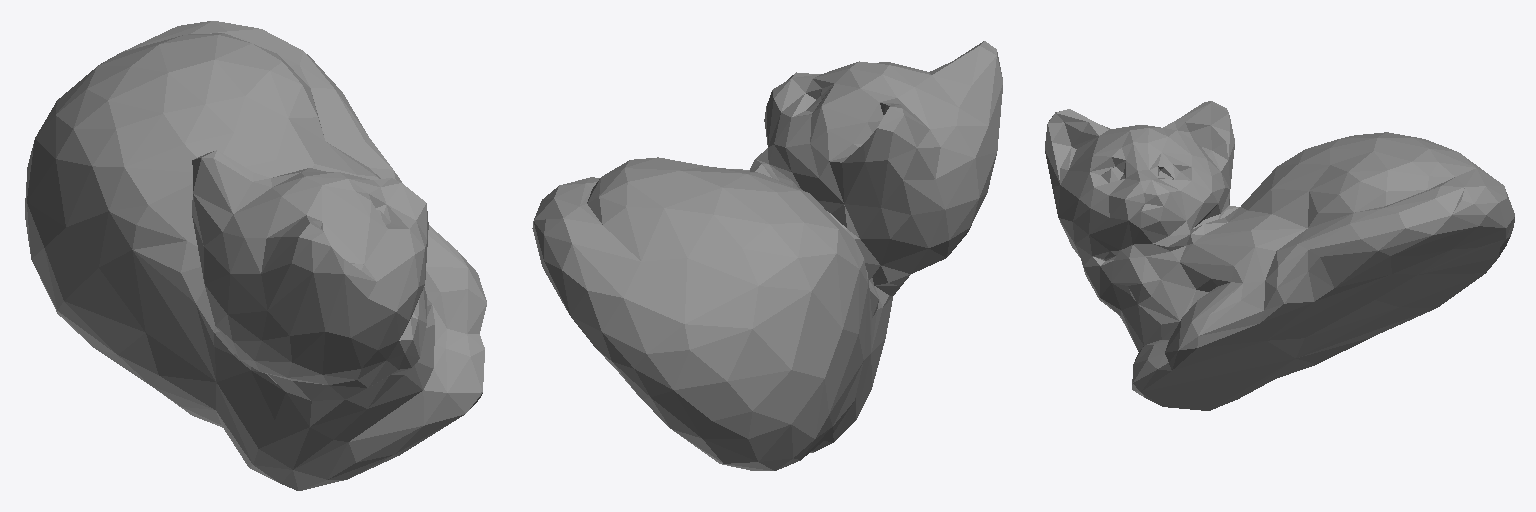
robot.urdf — cube.urdf:
<?xml version="0.0" ?> 
<robot name="cube.urdf"> 
<link name="legobrick"> 
<contact> 
<lateral_friction value="1.0"/>
<rolling_friction value="0.0"/>
<contact_cfm value="0.0"/>
<contact_erp value="1.0"/>
</contact> 
<inertial> 
<origin rpy="0 0 0" xyz="0.0 0.0 0.0"/> 
<mass value="0.1"/> 
<inertia ixx="1" ixy="0" ixz="0" iyy="1" iyz="0" izz="1"/> 
</inertial> 
<visual> 
<origin rpy="1.570796 0 0" xyz="0.001692408977556107 0.006917458852867832 -0.00709682294264339"/> 
<geometry> 
<mesh filename="CatLying_800_tex.obj" scale="1 1 1"/> 
</geometry> 
<material name="yellow"> 
<color rgba="0.6 0.6 0.6 1"/> 
</material> 
</visual> 
<collision> 
<origin rpy="1.570796 0 0" xyz="0.001692408977556107 0.006917458852867832 -0.00709682294264339"/> 
<geometry> 
<mesh filename="CatLying_800_tex_col.obj" scale="1 1 1"/> 
</geometry> 
</collision> 
</link> 
</robot>

--- Render facts (derived) ---
Views: 3 orthographic renders of the robot side by side, from view 1: azimuth 30°, elevation 25°; view 2: azimuth 150°, elevation 25°; view 3: azimuth 270°, elevation 25°.
Robot: cube.urdf — 1 links, 0 joints (none); root link legobrick; default pose: every joint at zero.
Links seen in each view (by area): view 1: legobrick; view 2: legobrick; view 3: legobrick.
Link boxes in pixels (left/top/right/bottom): legobrick: left=25, top=21, right=486, bottom=490; legobrick: left=532, top=41, right=1002, bottom=470; legobrick: left=1045, top=101, right=1514, bottom=410.
Bounding box of the posed robot: 0.0402 × 0.0691 × 0.045 m (x, y, z).
1 mesh visuals loaded from 1 distinct referenced files (1 OBJ).